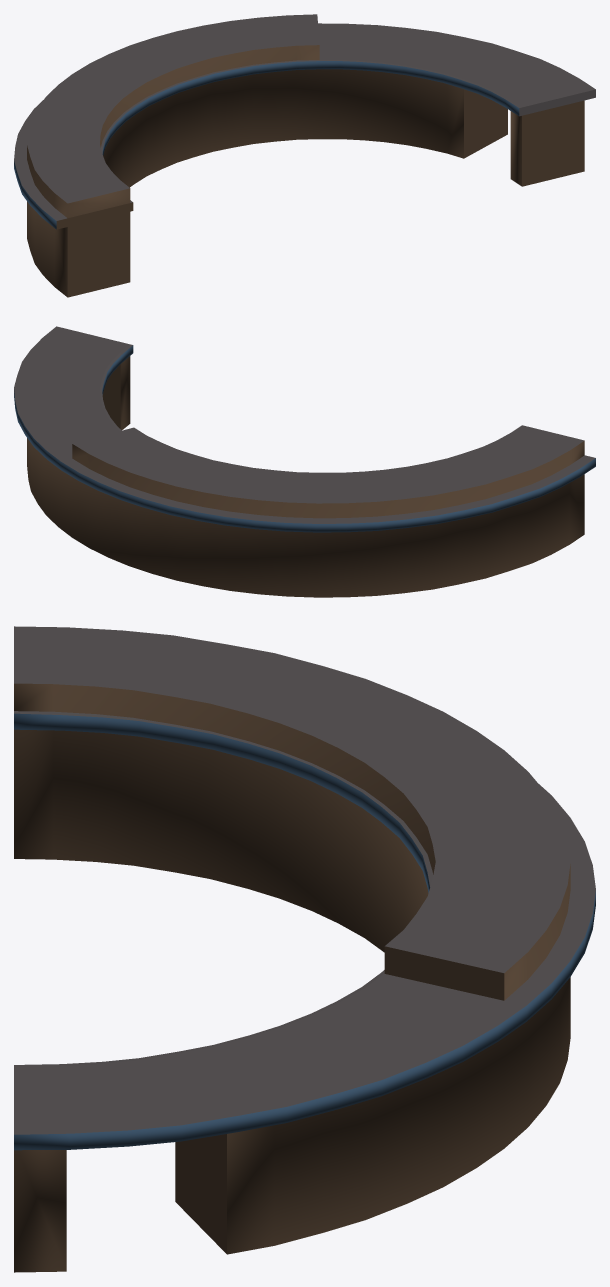
The model's file is Desk_Reception.fbx.
3 renders of one model, top to bottom at view 1: azimuth 30°, elevation 25°; view 2: azimuth 150°, elevation 25°; view 3: azimuth 270°, elevation 25°, orthographic. The views are drawn at different scales.
Parts seen in each view (by area): view 1: Cylinder; view 2: Cylinder; view 3: Cylinder.
Part boxes in pixels (left/top/right/bottom): Cylinder: left=14, top=14, right=595, bottom=297; Cylinder: left=14, top=326, right=595, bottom=597; Cylinder: left=14, top=626, right=595, bottom=1272.
Bounding box in the file's own units: 598 × 99.66 × 300.
